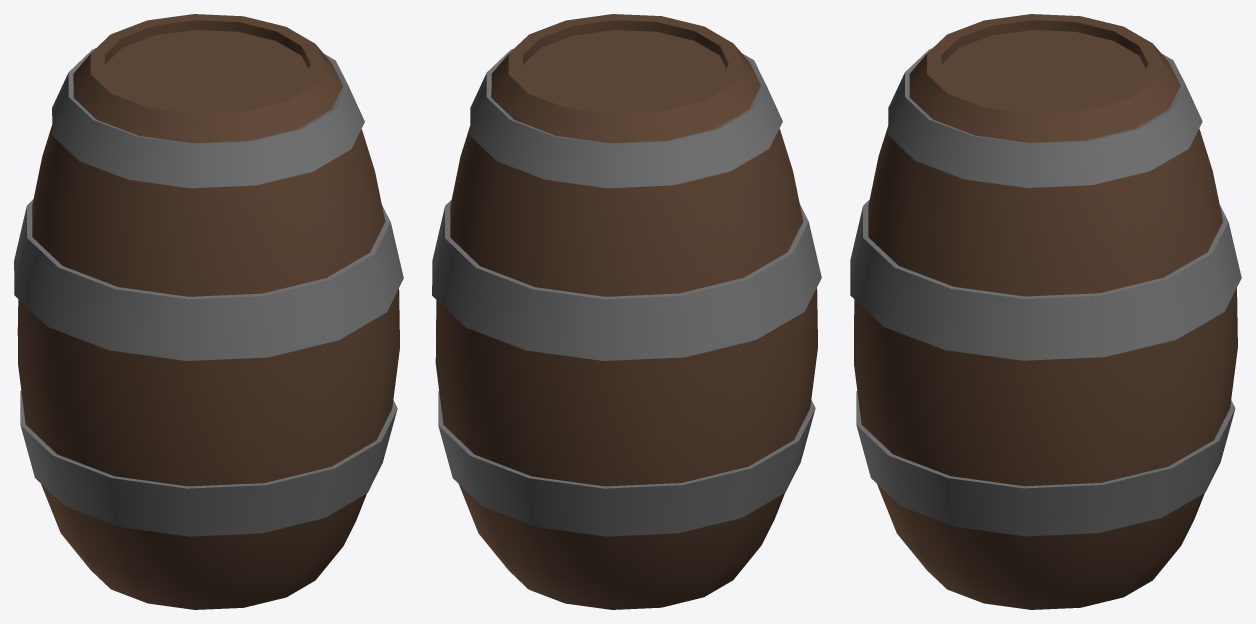
The model's file is Barrel.fbx.
3 renders of one model, left to right at view 1: azimuth 30°, elevation 25°; view 2: azimuth 150°, elevation 25°; view 3: azimuth 270°, elevation 25°, orthographic.
Visible parts, largest first — view 1: Barrel; view 2: Barrel; view 3: Barrel.
Part boxes in pixels (left/top/right/bottom): Barrel: left=14, top=14, right=403, bottom=609; Barrel: left=432, top=14, right=821, bottom=609; Barrel: left=850, top=14, right=1241, bottom=609.
Bounding box in the file's own units: 76.29 × 107 × 76.29.
